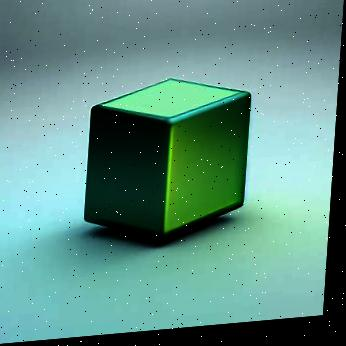cube: (85, 76, 256, 247)
